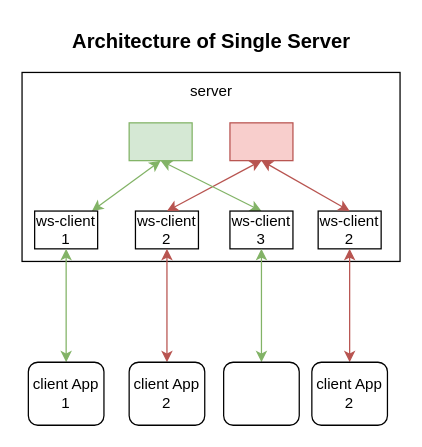
Some shapes in this 422 by 447 pixel diagram are drawn without their labels. Each missing label, with the centre of its shape:
"client App 3" belongs at (260,393).
"room A" belongs at (160,141).
"room B" belongs at (261,141).
